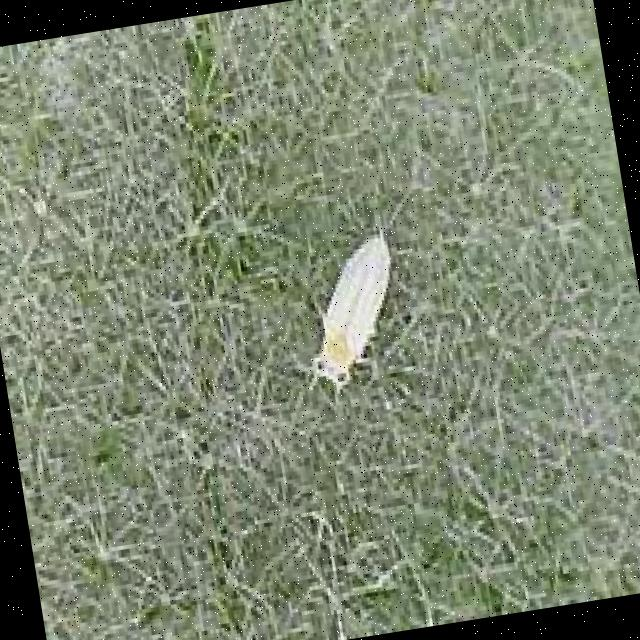whitefly: (276, 216, 422, 417)
